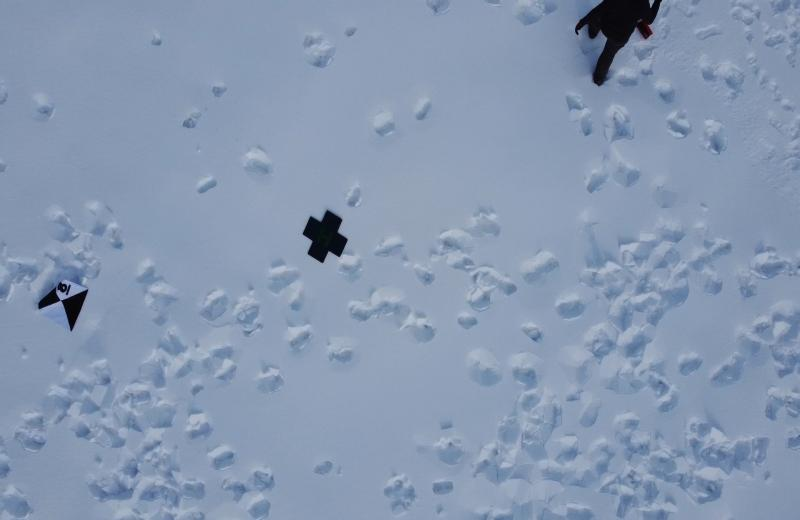Cross: (303, 208, 347, 263)
